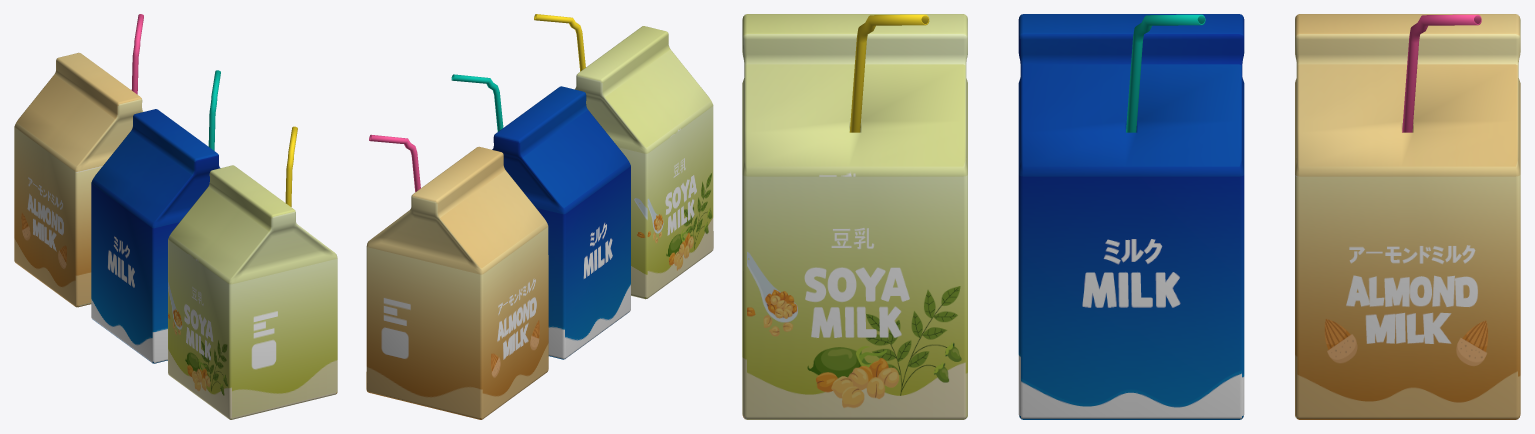
Rendered from milk_package.glb.
The picture shows the model from 3 angles, left to right: view 1: azimuth 30°, elevation 25°; view 2: azimuth 150°, elevation 25°; view 3: azimuth 270°, elevation 25°; orthographic projection. The views are drawn at different scales.
Parts seen in each view (by area): view 1: Soya Milk, Almond Milk, Milk; view 2: Almond Milk, Milk, Soya Milk; view 3: Milk, Almond Milk, Soya Milk.
Boxes of the visible parts, x1,y1,x2,y2 form: Soya Milk: [168, 126, 337, 419]; Almond Milk: [14, 14, 143, 307]; Milk: [91, 70, 220, 363]; Almond Milk: [366, 134, 548, 419]; Milk: [451, 74, 630, 359]; Soya Milk: [534, 14, 713, 299]; Milk: [1018, 14, 1244, 419]; Almond Milk: [1295, 14, 1520, 419]; Soya Milk: [742, 14, 967, 419].
Bounding box in the file's own units: 1.77 × 3.3 × 5.63.
Materials: 1 (1 with a texture image).
